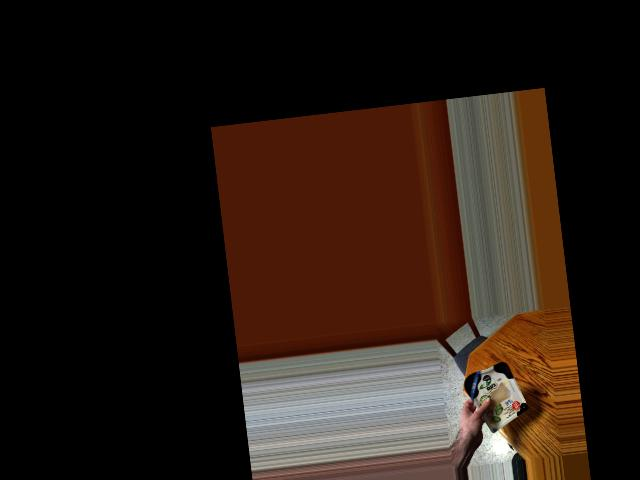cheese: (464, 357, 526, 423)
